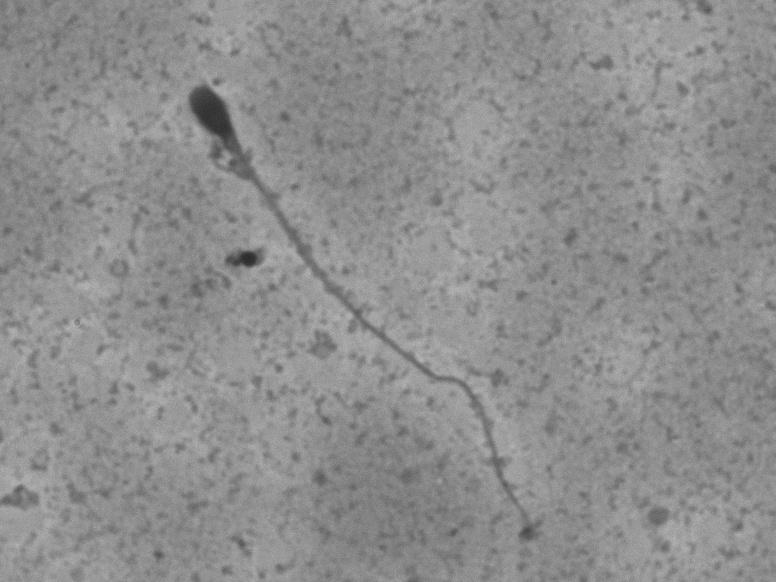Abnormal: (123, 22, 493, 473)
